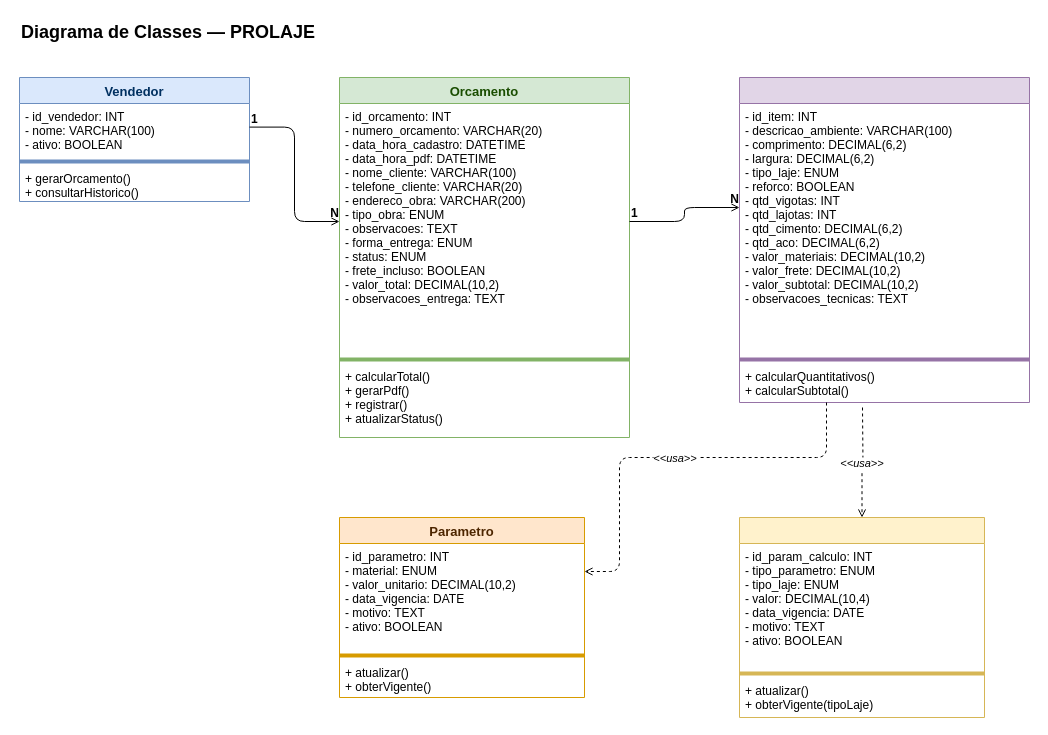
The diagram is 1048 pixels wide and 735 high, and some of its shapes have lost their labels. Here are the shapes that lost their labels. From the top down, the box of each, then its label:
(738, 76, 1030, 402): ItemOrcamento
(738, 516, 984, 718): ParametroCalculo
